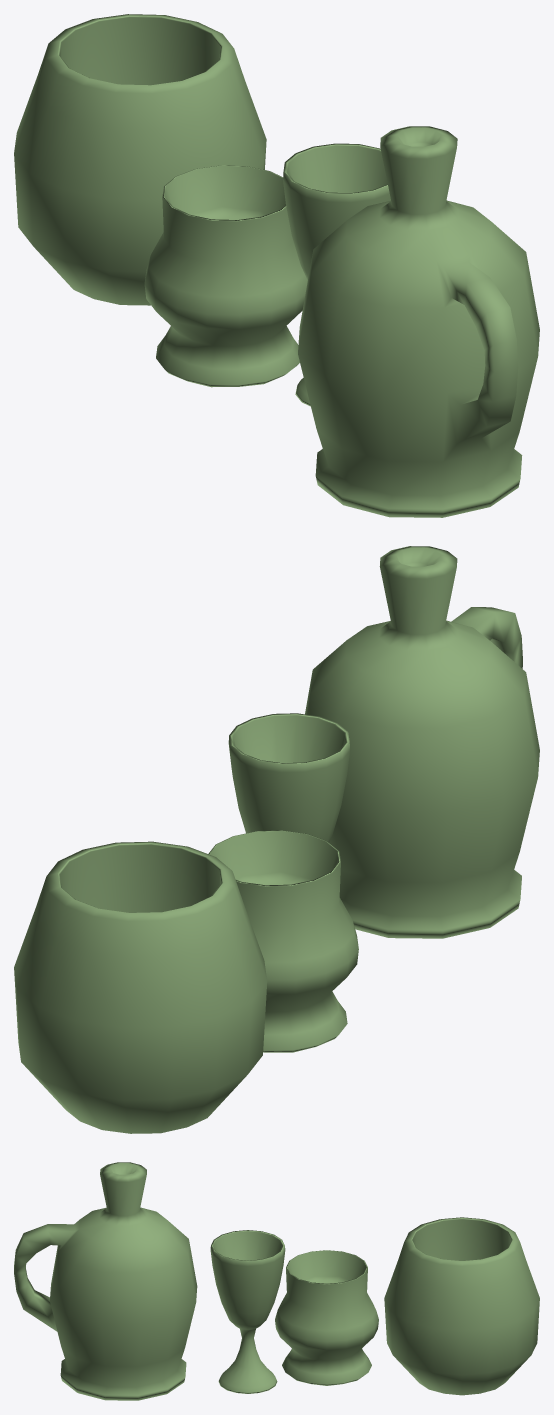
The model's file is Jar_Break_10_Lod0.fbx.
3 views of the same model, one above another, from view 1: azimuth 30°, elevation 25°; view 2: azimuth 150°, elevation 25°; view 3: azimuth 270°, elevation 25° (orthographic). The views are drawn at different scales.
Parts seen in each view (by area): view 1: Jar_Break_10_Lod0; view 2: Jar_Break_10_Lod0; view 3: Jar_Break_10_Lod0.
Part boxes in pixels (box(x1,y1,x2,y2)): Jar_Break_10_Lod0: box(14, 14, 539, 517); Jar_Break_10_Lod0: box(14, 546, 539, 1133); Jar_Break_10_Lod0: box(14, 1162, 539, 1400).
Size of the model in its own units: 25.32 by 37.11 by 85.55.
